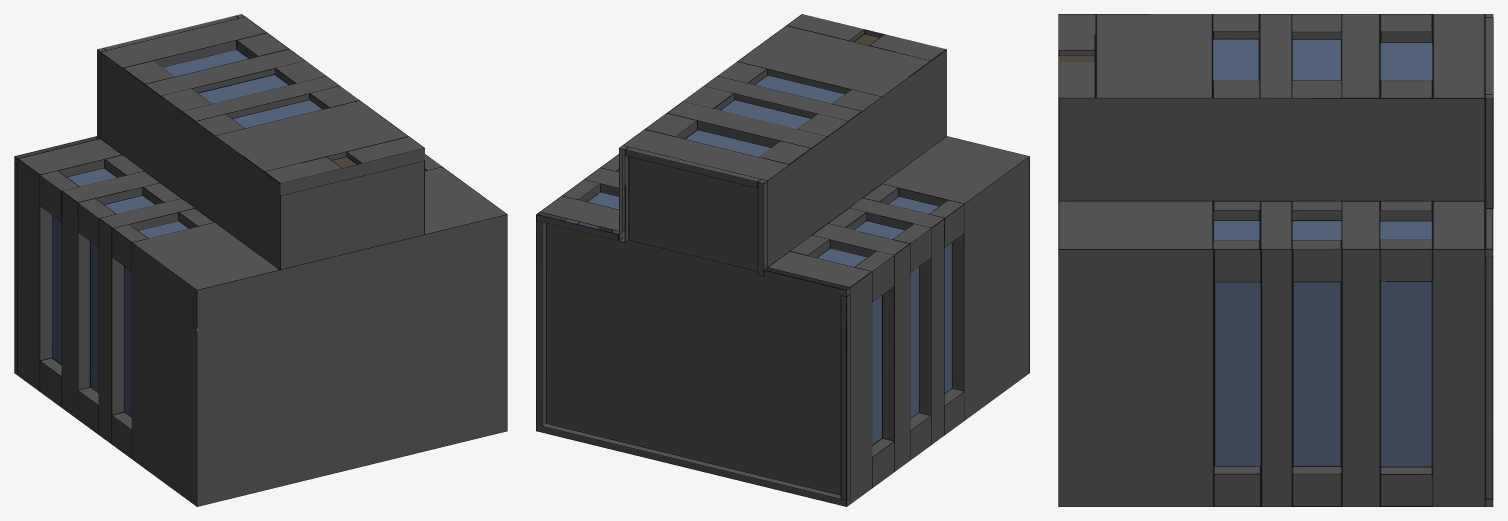
Rendered from state.obj.
3 renders of one model, left to right at view 1: azimuth 30°, elevation 25°; view 2: azimuth 150°, elevation 25°; view 3: azimuth 270°, elevation 25°, orthographic. The views are drawn at different scales.
Parts seen in each view (by area): view 1: Cube_Cube.011; view 2: Cube_Cube.011; view 3: Cube_Cube.011.
Part boxes in pixels (x1,y1,x2,y2): Cube_Cube.011: (14,14,507,506); Cube_Cube.011: (536,14,1029,506); Cube_Cube.011: (1058,14,1493,506).
Size of the model in its own units: 15 by 14 by 15.31.
